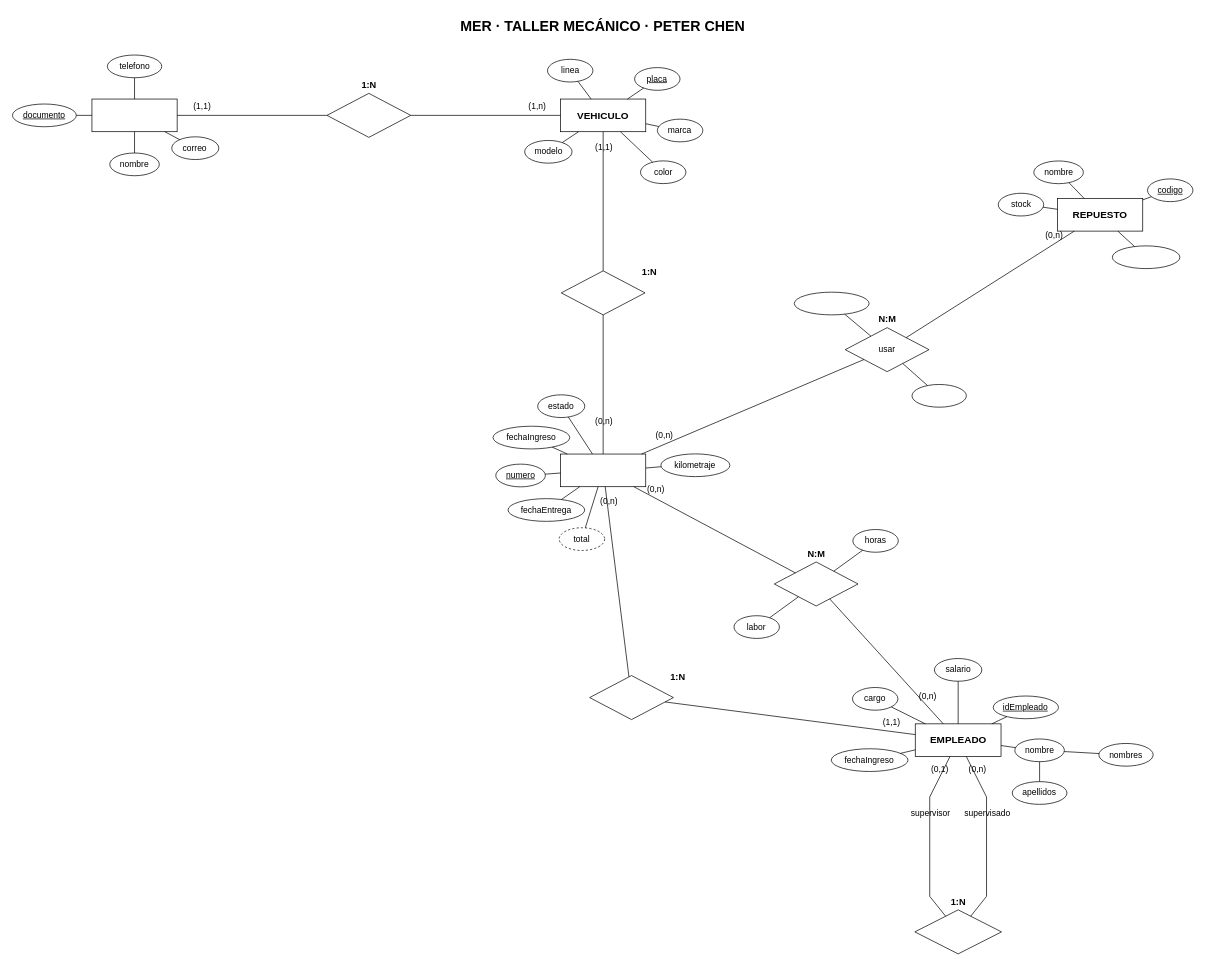
Some shapes in this 1206 by 966 pixel diagram are drawn without their labels. The shapes that lost their labels are listed below. From the top down, each one's centre as x and y in pixels, then its label:
pixel 134 115: CLIENTE
pixel 368 115: poseer
pixel 1146 257: precioLista
pixel 603 292: generar
pixel 831 303: valorUnitario
pixel 938 395: cantidad
pixel 603 470: ORDEN
pixel 816 583: trabajar
pixel 631 697: recibir
pixel 958 931: supervisar
